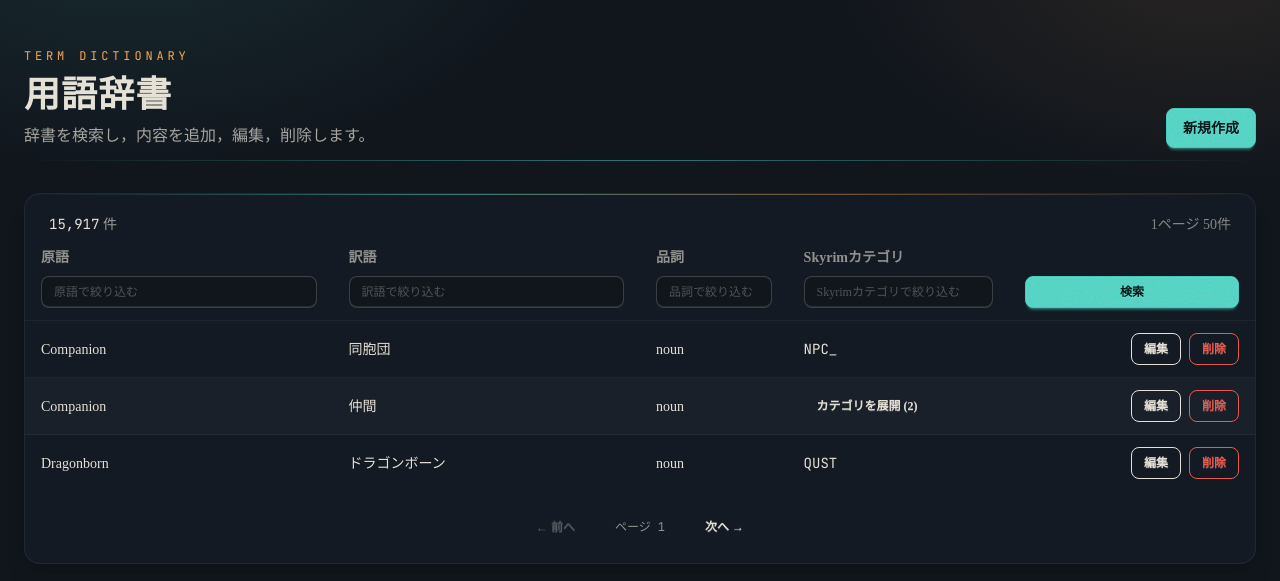
it: 別の行を編集すると前の行を文字表示へ戻す
This screenshot has width=1280, height=581.
Click the button "編集" in the row of "同胞団" at (1156, 349), box 1131,333 -> 1181,365
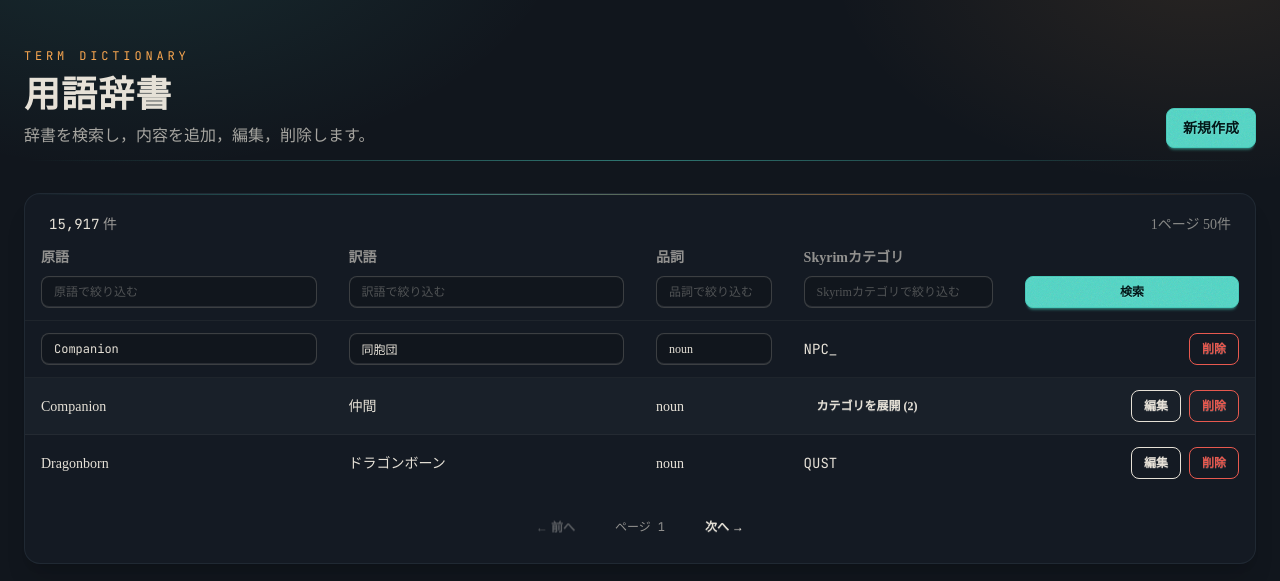
Now the field showing "同胞団" is shown, box 348,333 -> 624,365
Click the button "編集" in the row of "Companion" at (1156, 406), box 1131,390 -> 1181,422
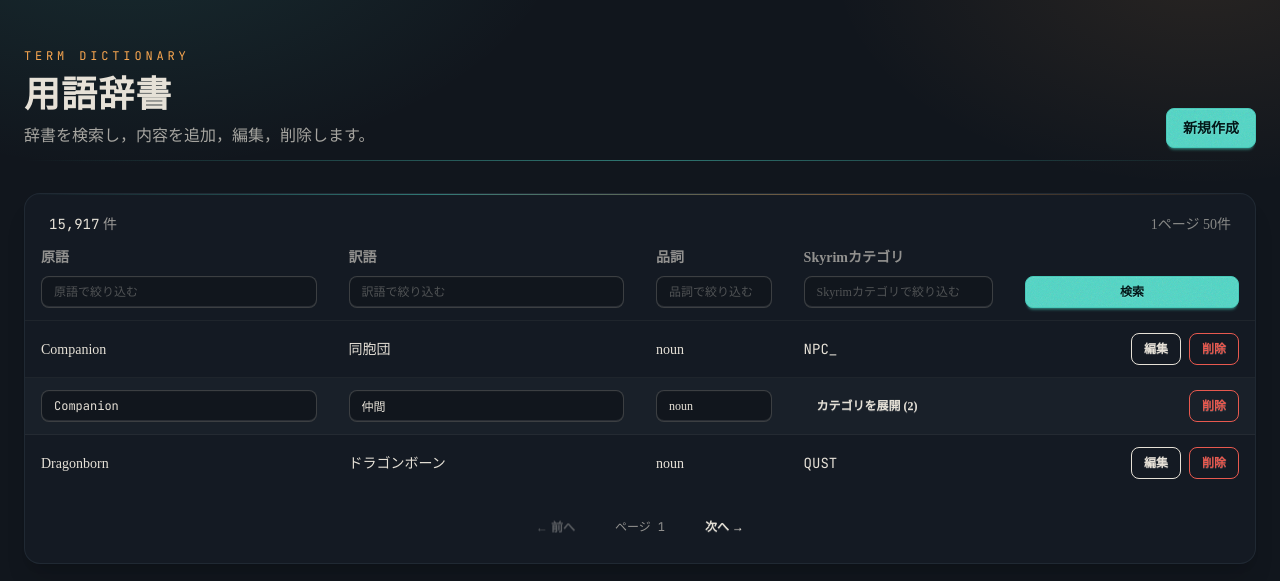
Now the field showing "仲間" is shown, box 348,390 -> 624,422
